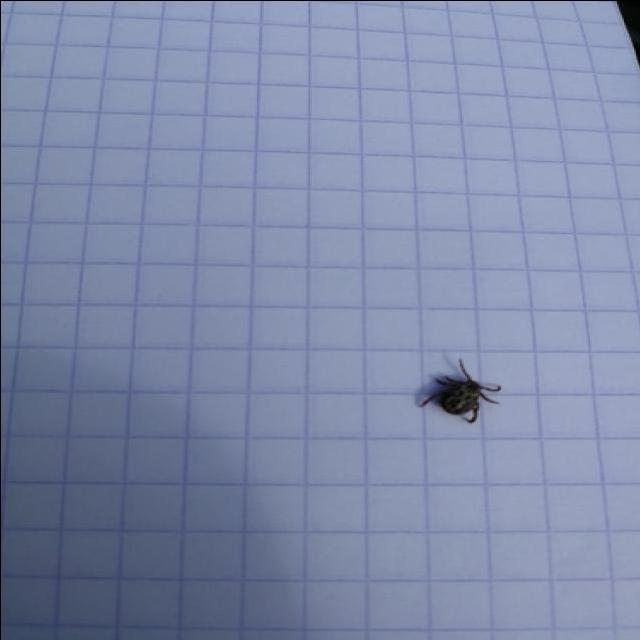Dermacentor Reticulatus-M: (411, 356, 503, 425)
